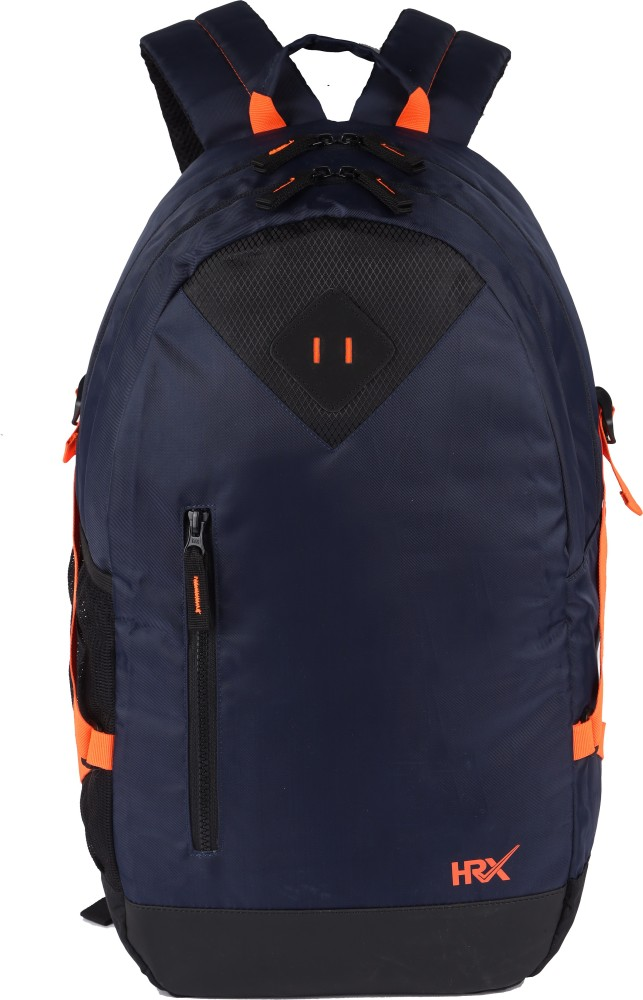backpack: (63, 1, 634, 997)
